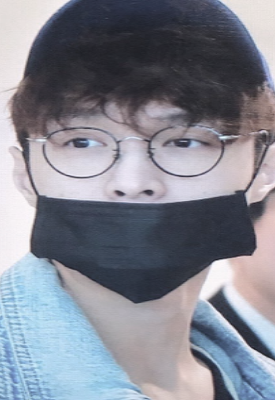mask_weared_incorrect: (27, 107, 259, 304)
